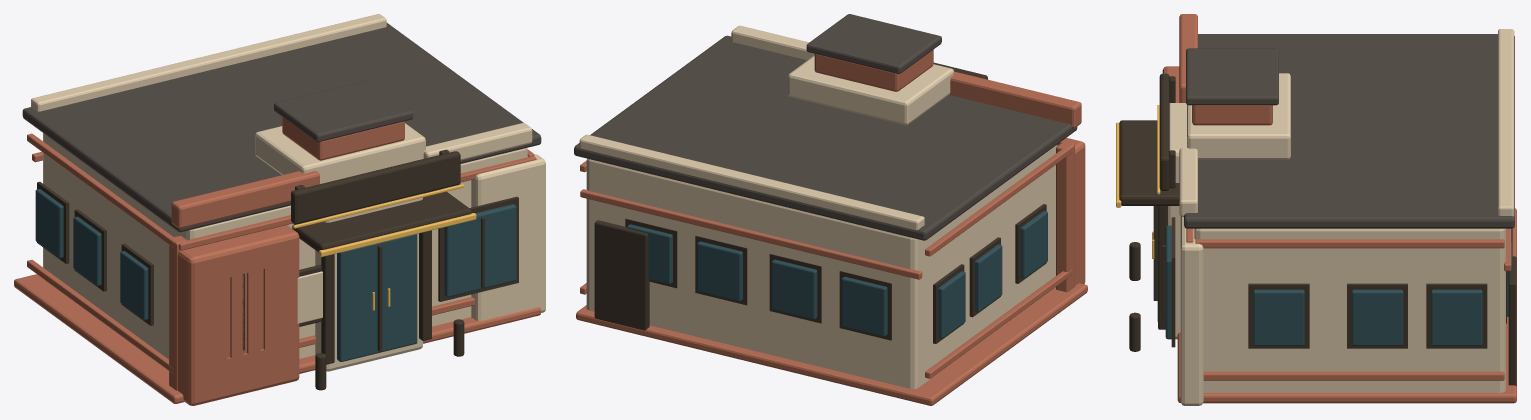
The model's file is SilverScreen_CastingOffice.fbx.
3 renders of one model, left to right at view 1: azimuth 30°, elevation 25°; view 2: azimuth 150°, elevation 25°; view 3: azimuth 270°, elevation 25°, orthographic. The views are drawn at different scales.
Visible parts, largest first — view 1: Casting_Roof, Casting_Body, Casting_Trim, Casting_Windows, Casting_Doors, Casting_Sign; view 2: Casting_Roof, Casting_Body, Casting_Trim, Casting_Windows, Casting_Doors; view 3: Casting_Roof, Casting_Body, Casting_Trim, Casting_Windows, Casting_Sign, Casting_Doors.
Boxes of the visible parts, bbox=[...] form: Casting_Roof: bbox=[22, 14, 541, 232]; Casting_Body: bbox=[14, 133, 545, 405]; Casting_Trim: bbox=[27, 133, 536, 390]; Casting_Windows: bbox=[35, 189, 516, 320]; Casting_Doors: bbox=[337, 234, 417, 361]; Casting_Sign: bbox=[291, 149, 464, 228]; Casting_Roof: bbox=[574, 14, 1081, 240]; Casting_Body: bbox=[576, 138, 1087, 405]; Casting_Trim: bbox=[580, 140, 1074, 378]; Casting_Windows: bbox=[627, 211, 1047, 338]; Casting_Doors: bbox=[594, 220, 649, 330]; Casting_Roof: bbox=[1179, 14, 1514, 228]; Casting_Body: bbox=[1162, 66, 1516, 405]; Casting_Trim: bbox=[1116, 120, 1511, 380]; Casting_Windows: bbox=[1165, 225, 1512, 345]; Casting_Sign: bbox=[1157, 73, 1175, 194]; Casting_Doors: bbox=[1157, 206, 1516, 385].
Size of the model in its own units: 8.3 by 4.91 by 7.33.
